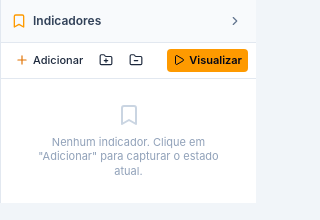
Test: BookmarksPane › Adicionar captura o estado atual como um novo indicador
Click the button "Adicionar": {"x": 49, "y": 60} [9, 49, 89, 72]
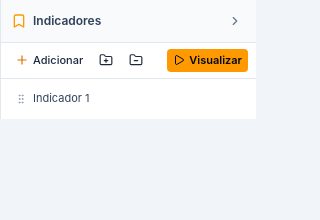
Expected: the text "Indicador 1" is shown, [33, 91, 90, 105]
